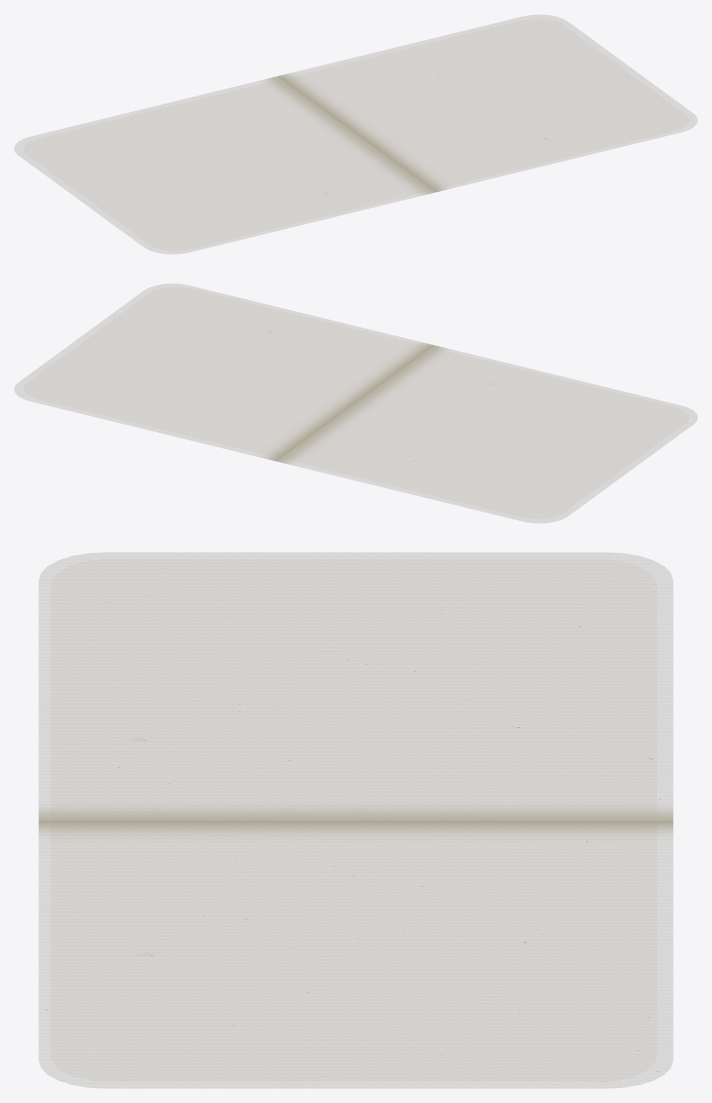
Rendered from shuye.FBX.
The picture shows the model from 3 angles, top to bottom: view 1: azimuth 30°, elevation 25°; view 2: azimuth 150°, elevation 25°; view 3: azimuth 270°, elevation 25°; orthographic projection. The views are drawn at different scales.
Parts seen in each view (by area): view 1: shuye; view 2: shuye; view 3: shuye.
Part boxes in pixels (x1,y1,x2,y2): shuye: (14, 14, 697, 254); shuye: (14, 283, 697, 523); shuye: (38, 552, 673, 1088).
Bounding box in the file's own units: 1000 × 2.19e-05 × 500.
